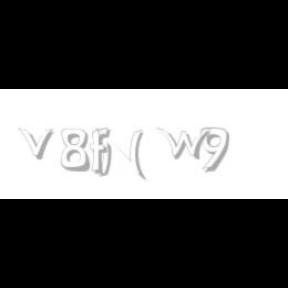8: (61, 128, 90, 172)
9: (200, 128, 230, 172)
N: (96, 128, 144, 180)
f: (90, 128, 114, 174)
v: (18, 128, 58, 160)
w: (156, 128, 216, 160)
